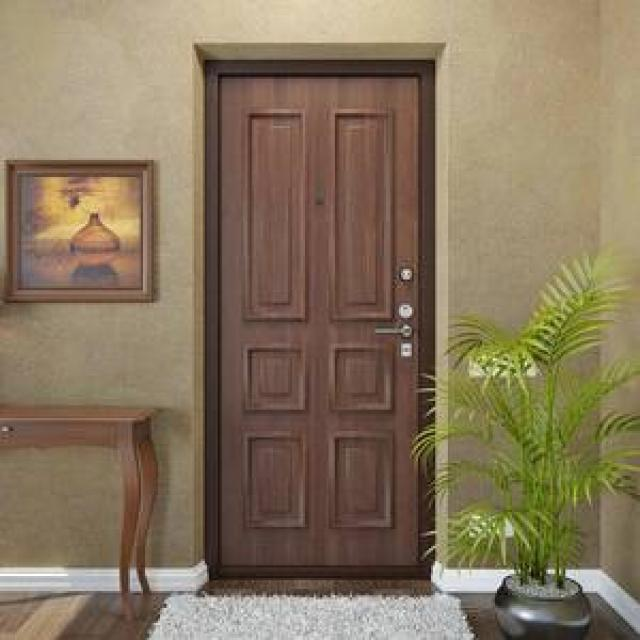close: (202, 57, 428, 577)
